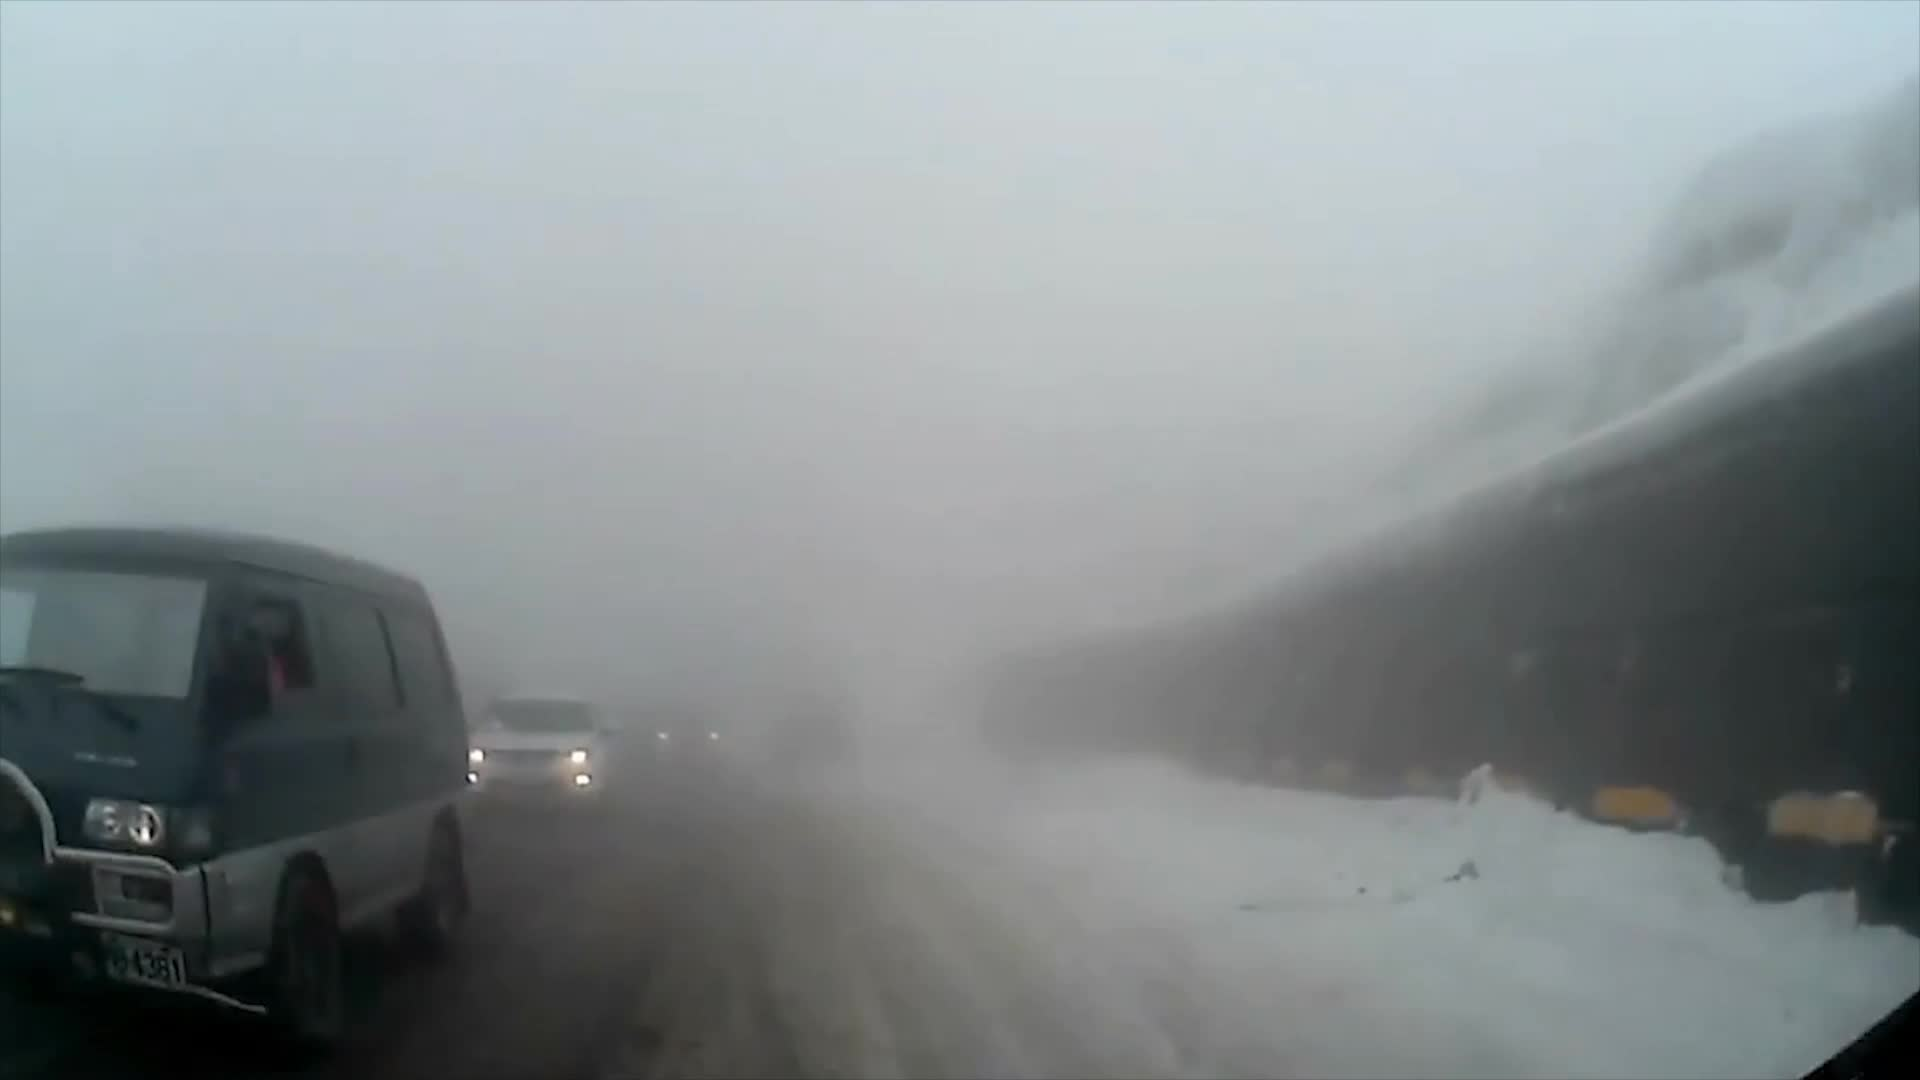vehicle: (0, 524, 477, 1065), (460, 698, 617, 823)
